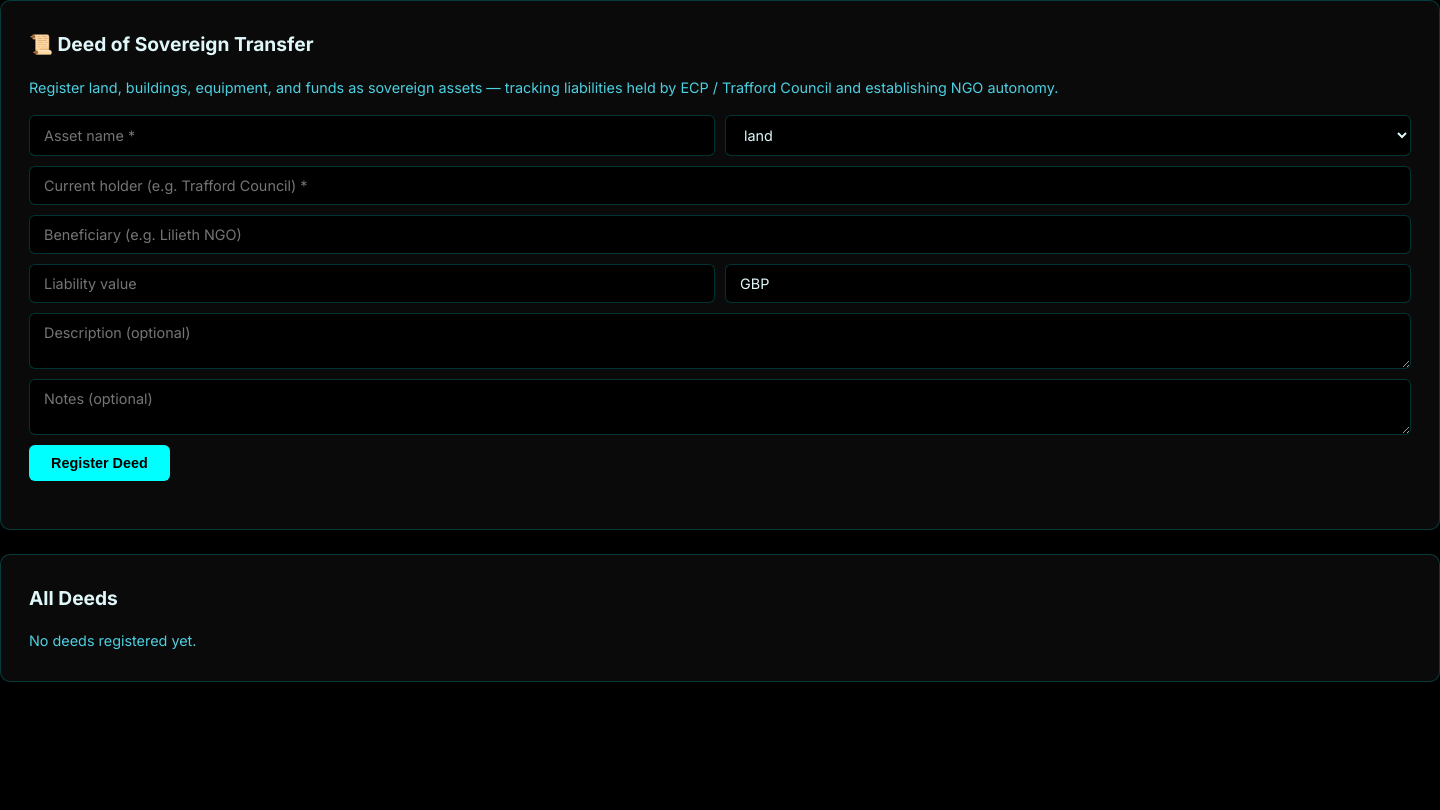
Deeds › shows success message after registration
This screenshot has width=1440, height=810.
Type "Test Plot" into the field with placeholder "Asset name *" at x=372, y=135, box [29,115,715,156]
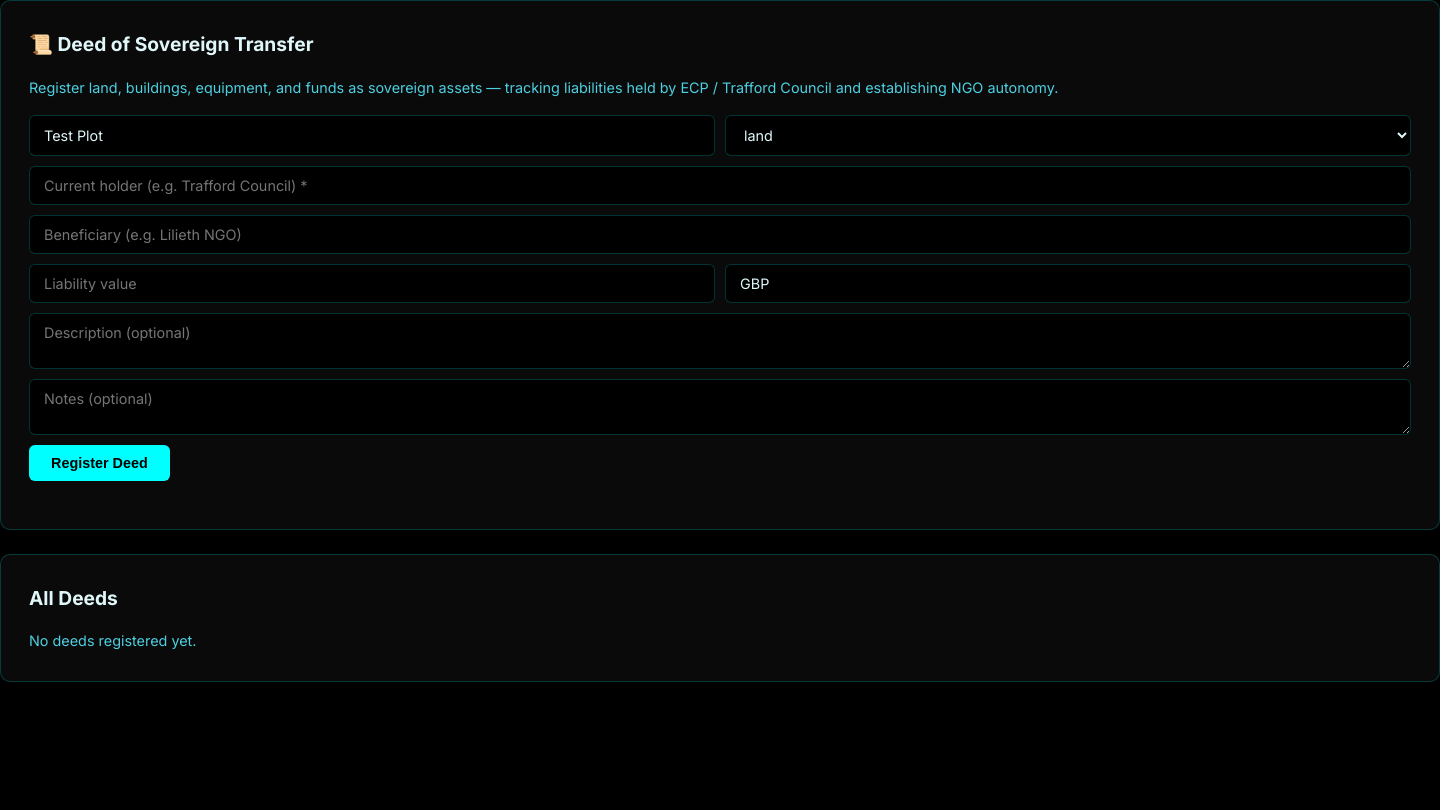
Type "Council" into the field with placeholder "Current holder (e.g. Trafford Council) *" at x=720, y=185, box [29,166,1411,205]
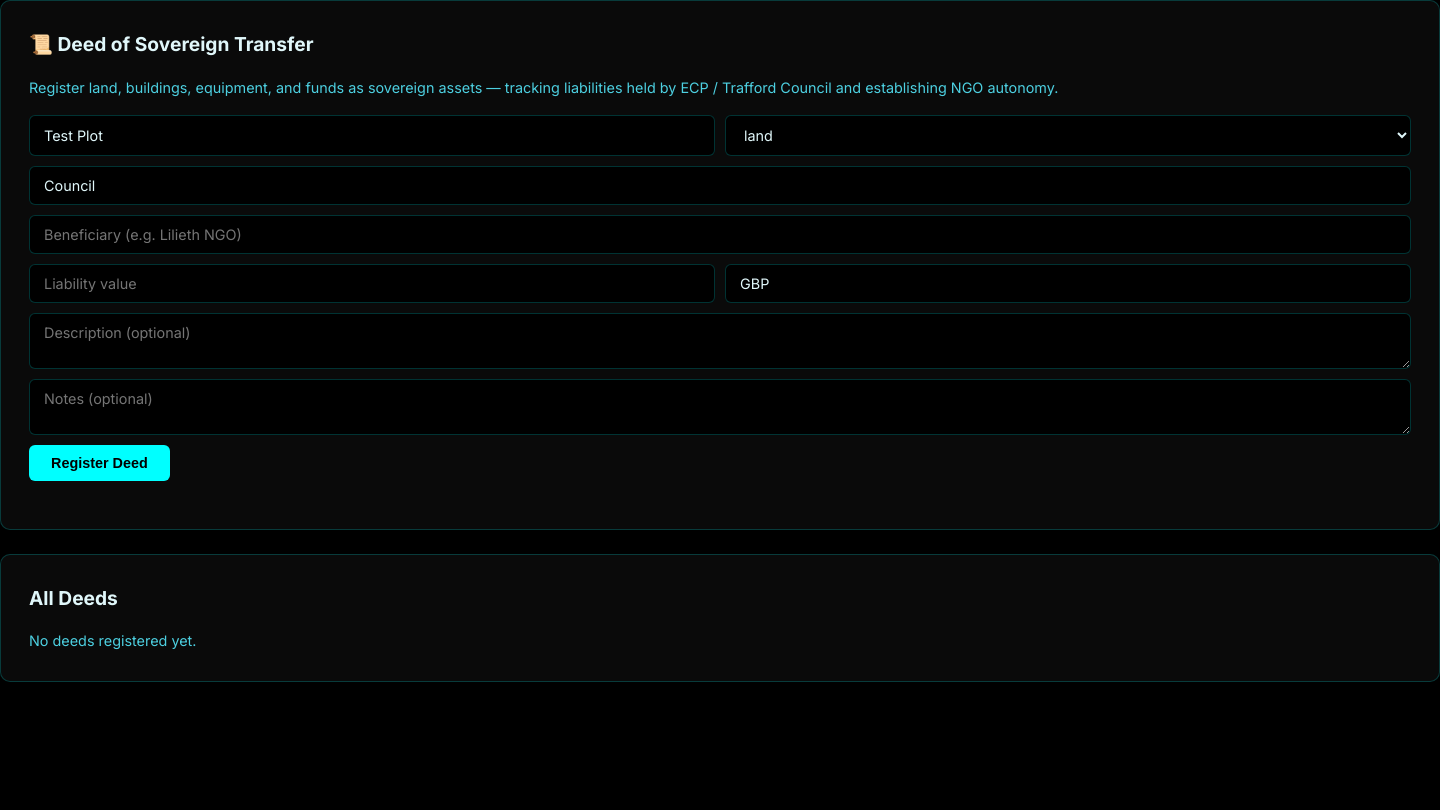
Click the button "Register Deed" at x=99, y=463, box [29,445,170,481]
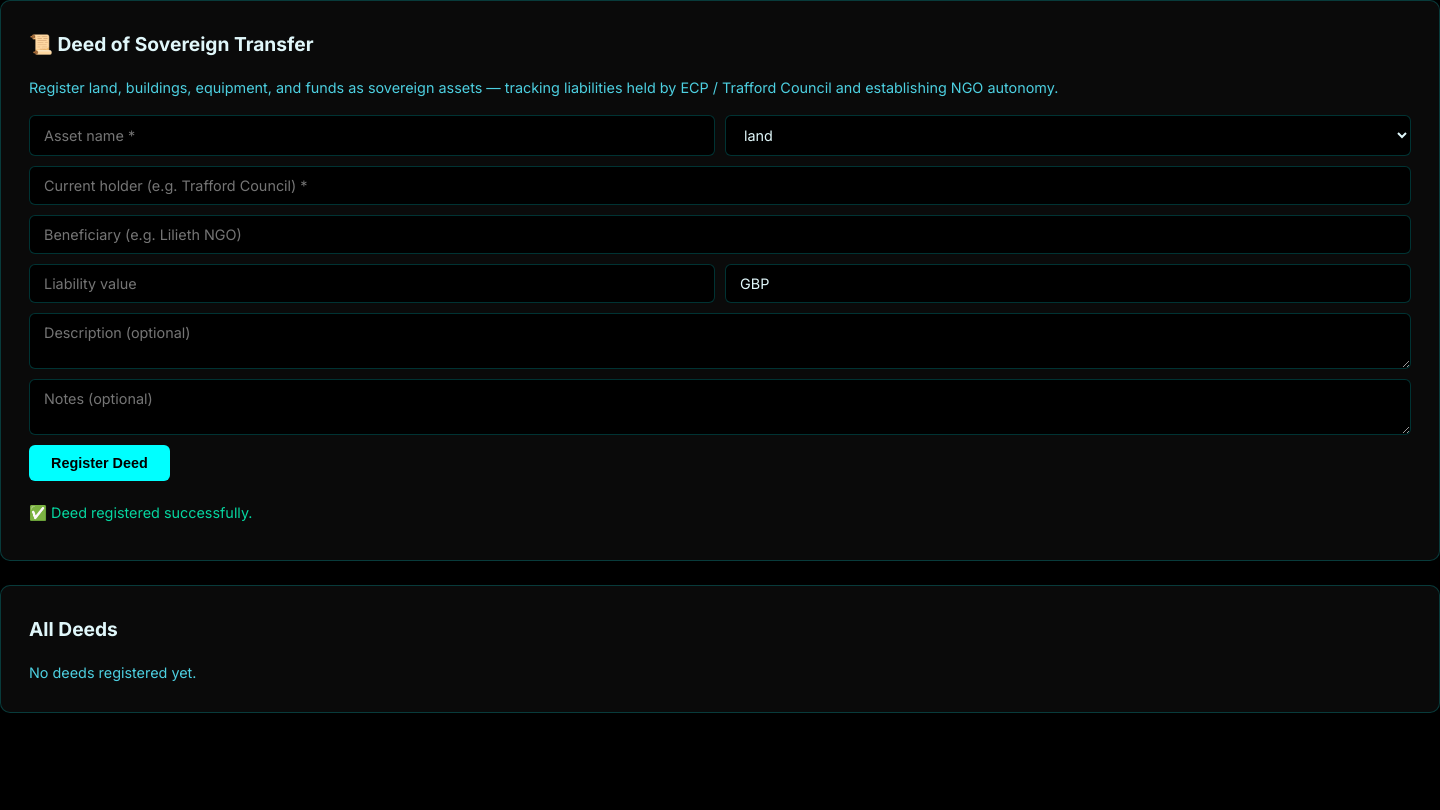
Now the text "✅ Deed registered successfully." is shown, box [29,504,252,521]
